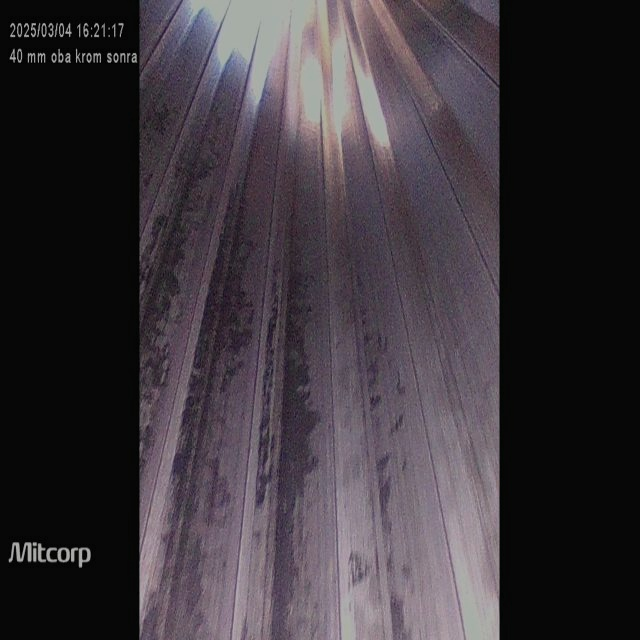hata_8.3: (140, 169, 265, 640), (139, 60, 243, 494), (234, 178, 324, 640), (345, 236, 439, 640), (136, 26, 195, 210)
